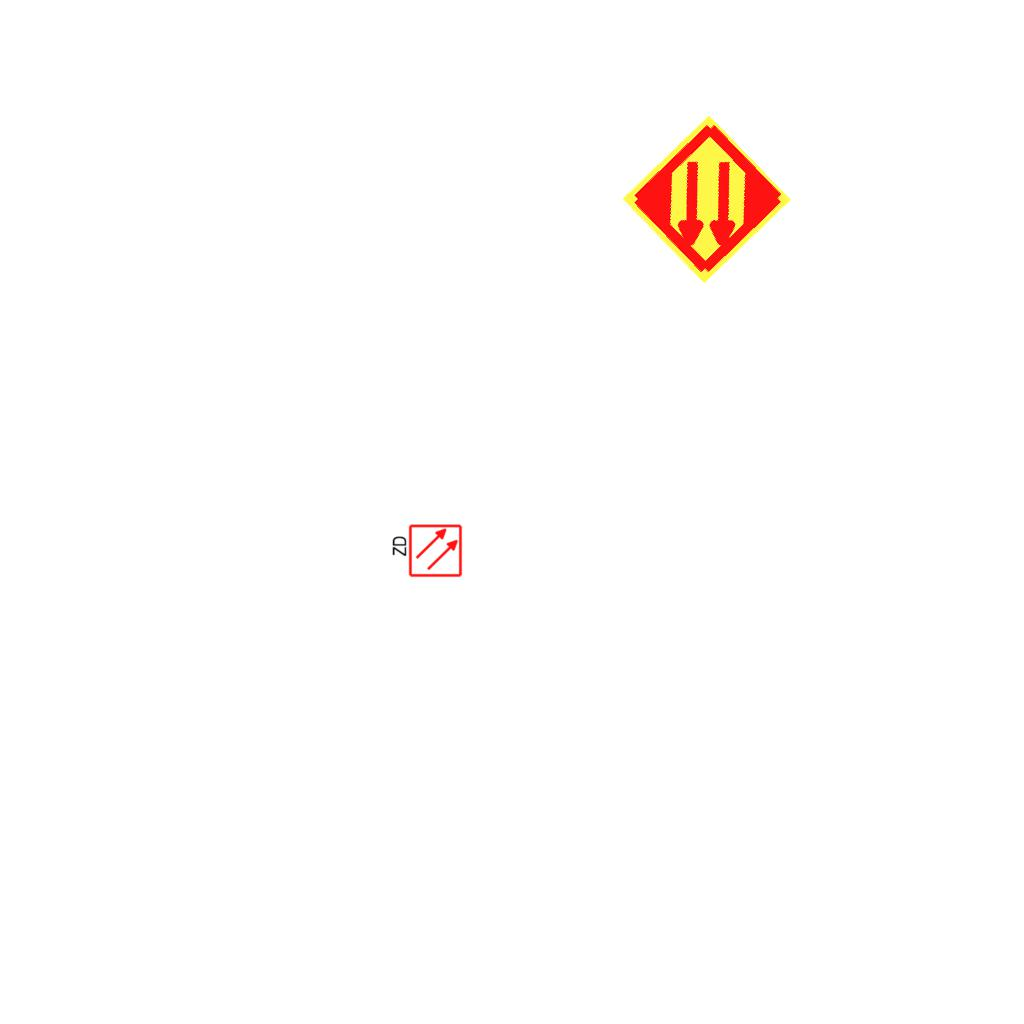ASR_Ansaugrauchmelder: (618, 111, 795, 288)
ZD_Melder_in_Zwischendecke_mit_Revisionsoeffnung_mind_40_x_40_cm: (389, 523, 463, 580)
